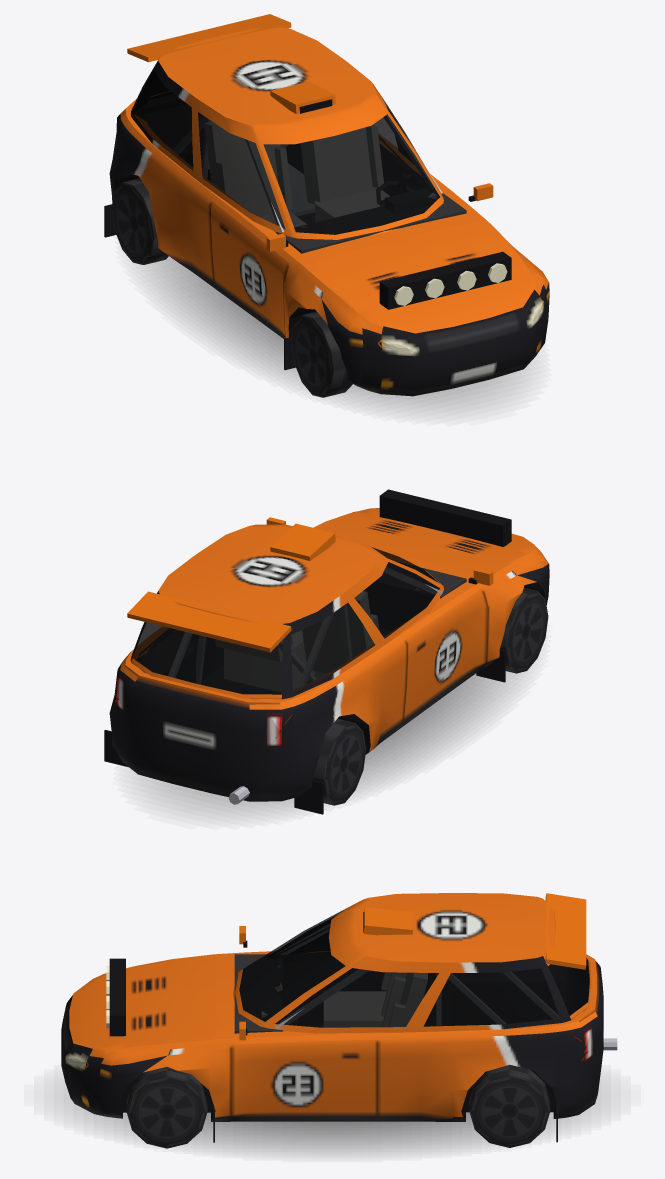
File: labareda.glb
3 renders of one model, top to bottom at view 1: azimuth 30°, elevation 25°; view 2: azimuth 150°, elevation 25°; view 3: azimuth 270°, elevation 25°, orthographic. The views are drawn at different scales.
Parts seen in each view (by area): view 1: Carroceria, Interior, Capo_malha, Porta_D_malha, Sombra, Roda_DD, Roda_TD, Tampa_malha, Porta_E_malha; view 2: Carroceria, Tampa_malha, Interior, Capo_malha, Porta_D_malha, Sombra, Roda_TD, Roda_DD; view 3: Carroceria, Interior, Porta_E_malha, Capo_malha, Sombra, Tampa_malha, Roda_TE, Roda_DE, Porta_D_malha.
Boxes of the visible parts, bbox=[...] form: Carroceria: bbox=[104, 27, 549, 396]; Interior: bbox=[134, 94, 466, 253]; Capo_malha: bbox=[308, 221, 541, 334]; Porta_D_malha: bbox=[210, 123, 292, 336]; Sombra: bbox=[145, 257, 523, 411]; Roda_DD: bbox=[291, 311, 352, 397]; Roda_TD: bbox=[111, 178, 168, 264]; Tampa_malha: bbox=[127, 14, 291, 112]; Porta_E_malha: bbox=[376, 91, 493, 201]; Carroceria: bbox=[104, 511, 549, 814]; Tampa_malha: bbox=[124, 591, 291, 781]; Interior: bbox=[136, 562, 466, 693]; Capo_malha: bbox=[318, 489, 541, 574]; Porta_D_malha: bbox=[375, 555, 493, 717]; Sombra: bbox=[141, 671, 517, 815]; Roda_TD: bbox=[312, 718, 366, 805]; Roda_DD: bbox=[500, 587, 548, 673]; Carroceria: bbox=[61, 893, 617, 1142]; Interior: bbox=[234, 924, 588, 1033]; Porta_E_malha: bbox=[231, 956, 377, 1115]; Capo_malha: bbox=[74, 956, 215, 1057]; Sombra: bbox=[63, 1082, 601, 1153]; Tampa_malha: bbox=[543, 893, 603, 1089]; Roda_TE: bbox=[469, 1064, 550, 1147]; Roda_DE: bbox=[126, 1067, 207, 1148]; Porta_D_malha: bbox=[239, 917, 333, 956].
Size of the model in its own units: 2.44 by 1.49 by 4.72.
14 materials, 5 textured.
